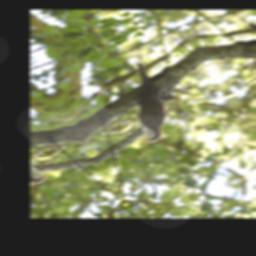Cuckoo: (95, 59, 189, 147)
